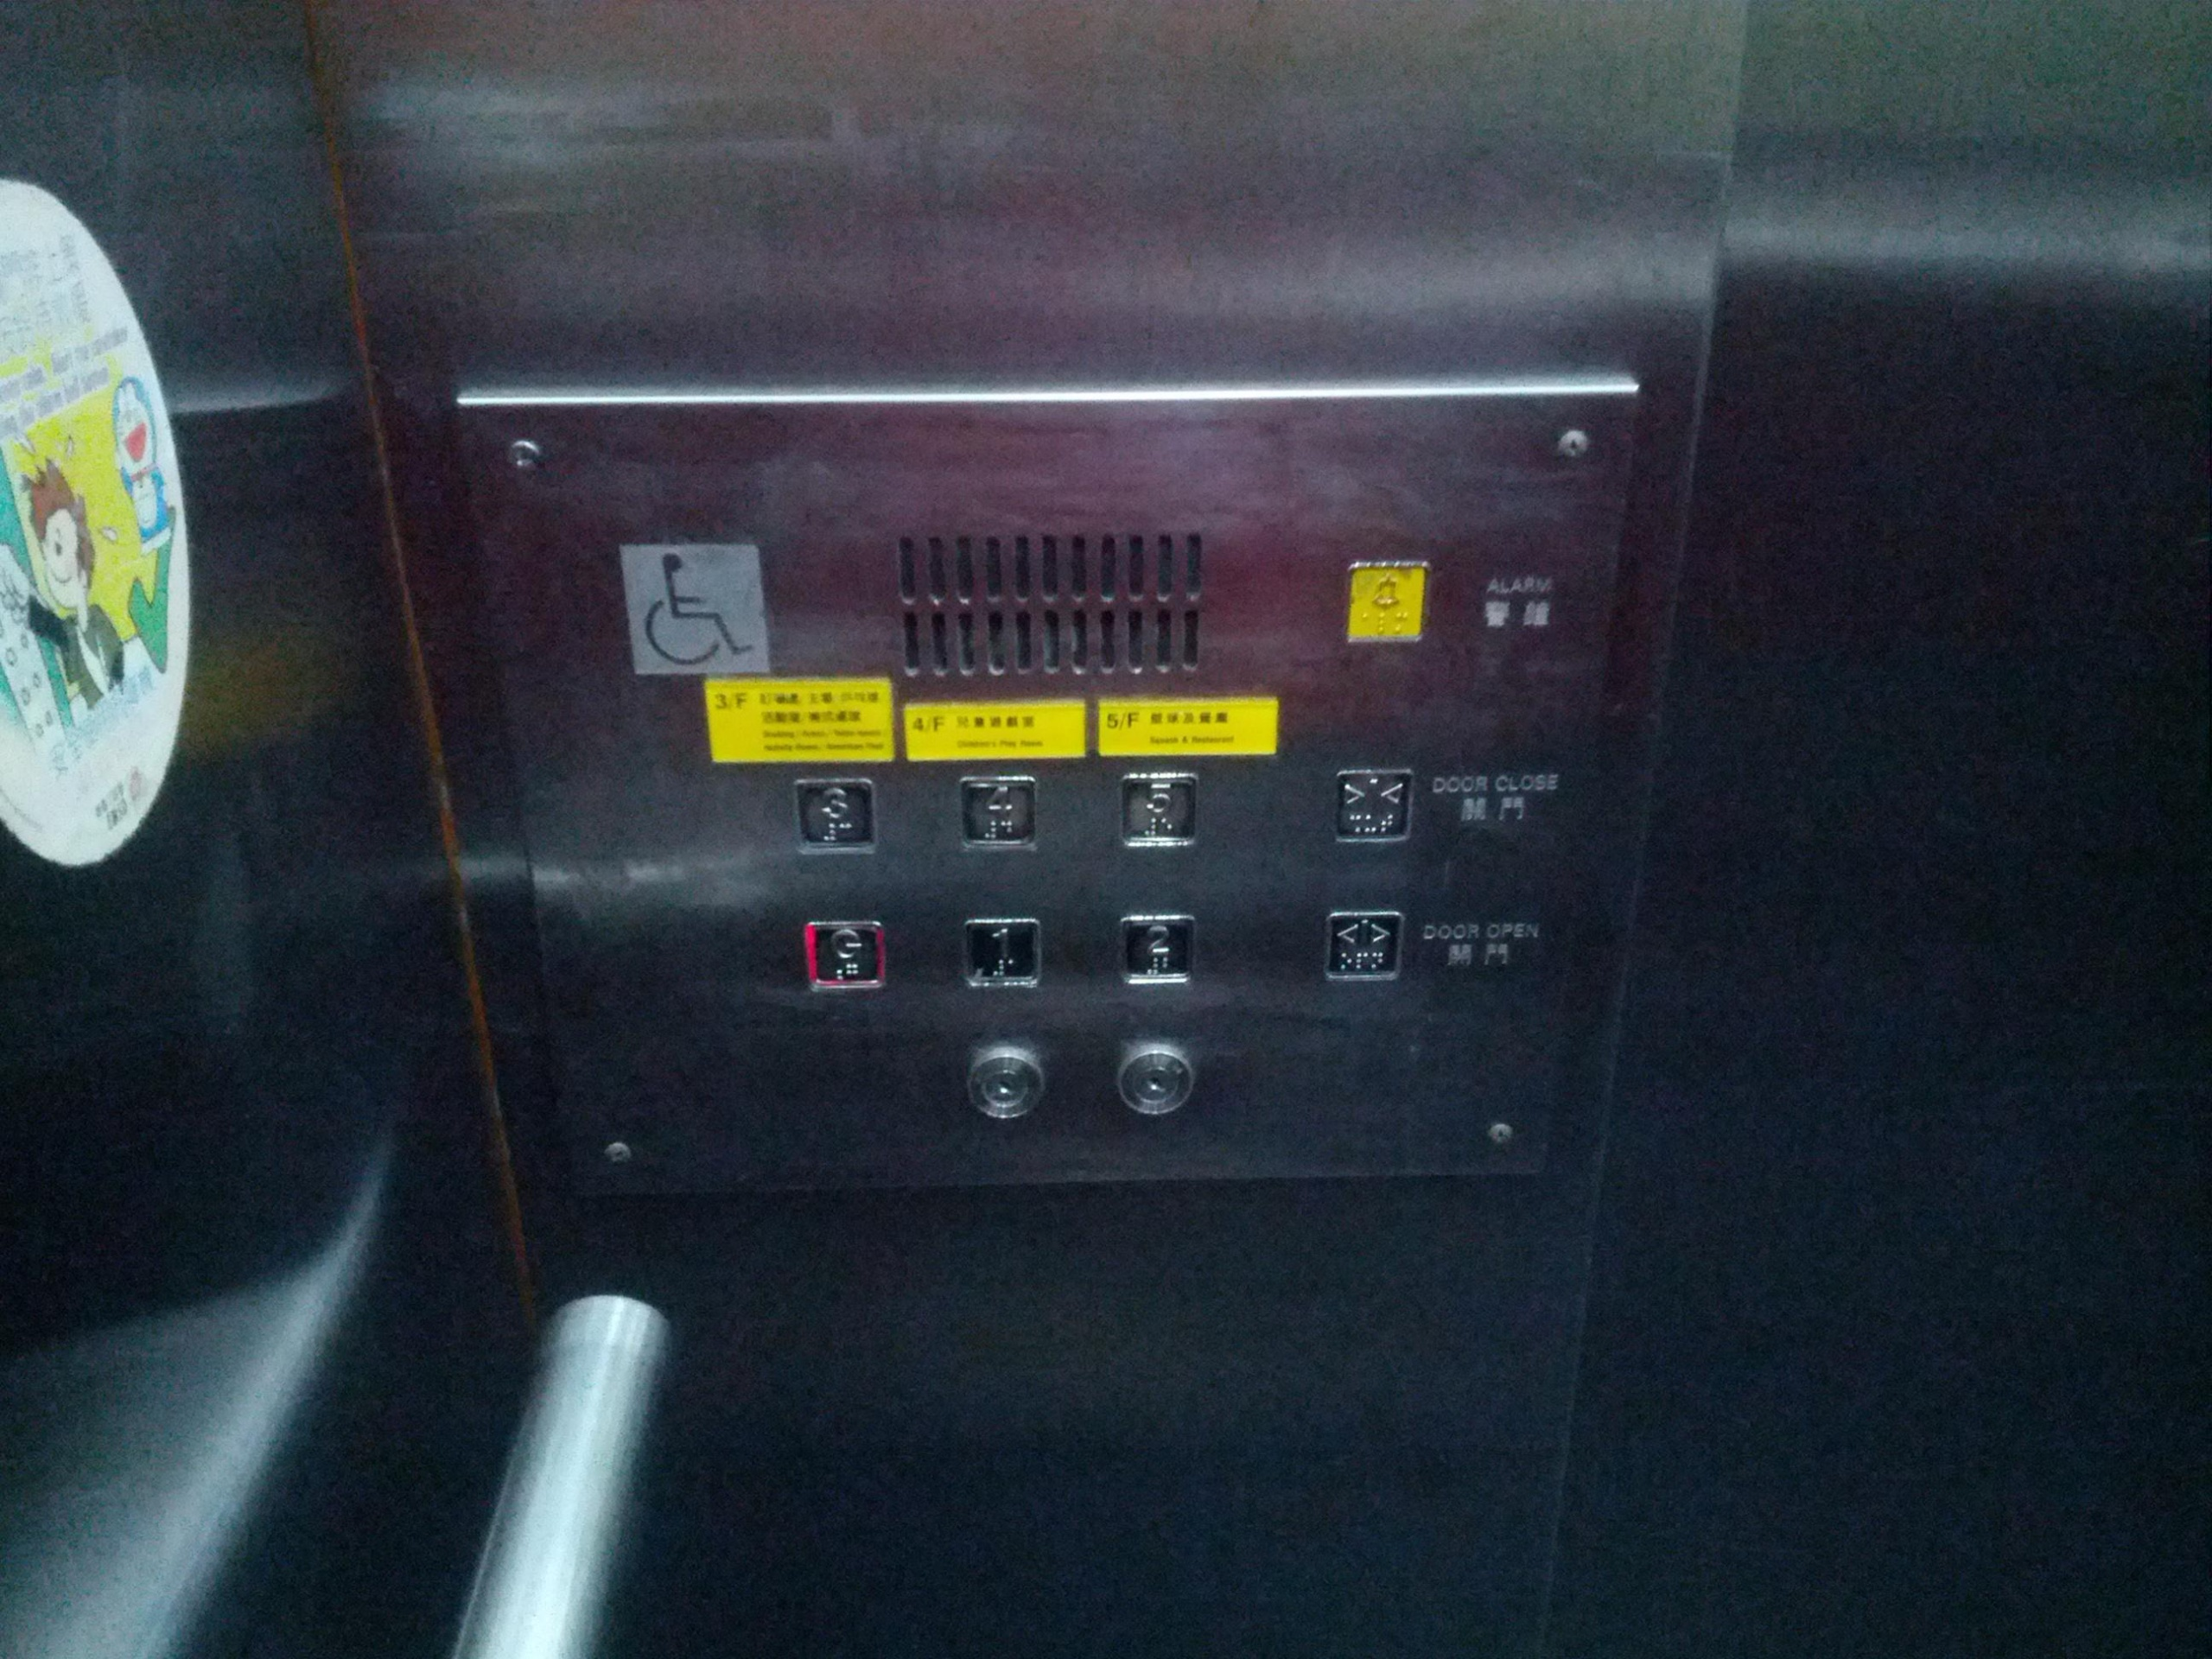1: (963, 913, 1043, 993)
2: (1113, 910, 1202, 992)
3: (789, 775, 883, 857)
4: (951, 770, 1043, 856)
5: (1111, 765, 1204, 854)
CH: (610, 537, 773, 680)
G: (798, 913, 890, 997)
alarm: (1341, 558, 1433, 647)
close: (1329, 760, 1418, 854)
keyhole: (1109, 1033, 1198, 1122), (965, 1040, 1045, 1129)
open: (1320, 906, 1406, 990)
